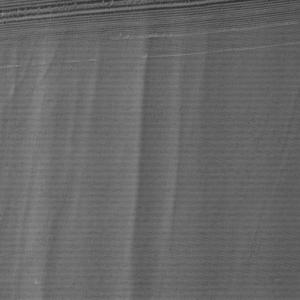Wrinkle: (26, 32, 103, 300), (121, 29, 195, 300)
